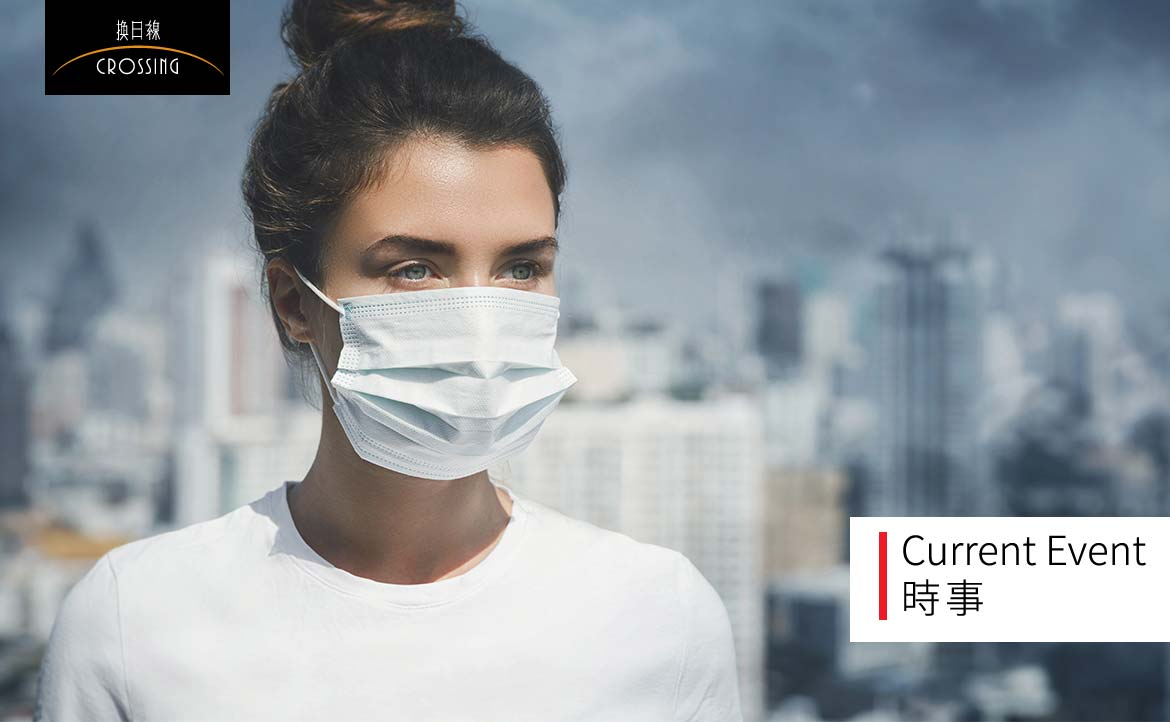Mask: (308, 142, 581, 488)
